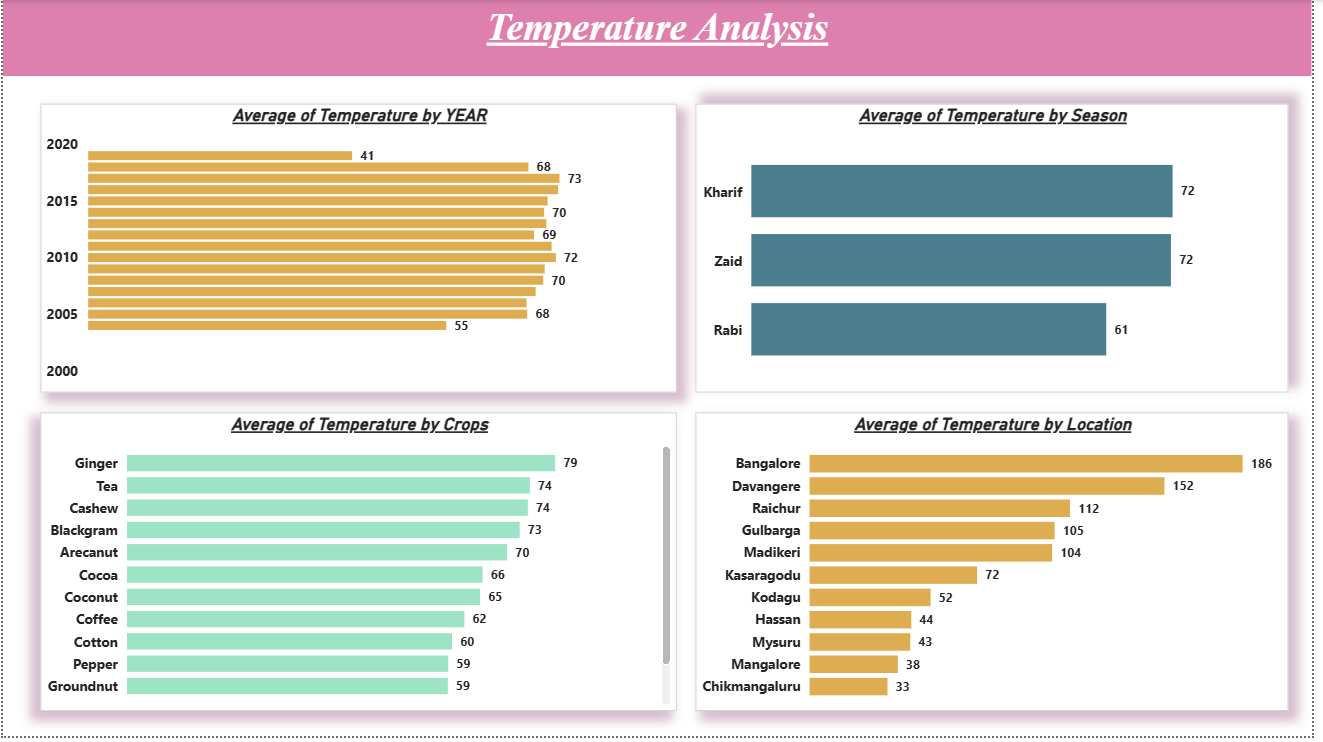

The page's visual inventory and layout, read from the dashboard file:
{"tool":"powerbi","page":{"name":"Temperature  Analysis","canvas":[1280,720],"ordinal":1},"visuals":[{"type":"textbox","box":[9.6,0,1270.7,74.1],"z":0},{"type":"textbox","box":[0,0,1280.3,74.1],"z":1000},{"type":"barChart","title":"Average of Temperature  by YEAR","fields":{"Category":["AGRICULTURE.YEAR"],"Y":["Avg(AGRICULTURE.TEMPPERATURE)"]},"box":[36.9,101,622.4,282.5],"z":2000},{"type":"barChart","title":"Average of Temperature by Season","fields":{"Category":["AGRICULTURE.SEASON"],"Y":["Avg(AGRICULTURE.TEMPPERATURE)"]},"box":[677,101,580.1,282.5],"z":3000},{"type":"barChart","title":"Average of Temperature by Crops","fields":{"Category":["AGRICULTURE.CROPS"],"Y":["Avg(AGRICULTURE.TEMPPERATURE)"]},"box":[36.9,404,622.4,292.1],"z":4000},{"type":"barChart","title":"Average of Temperature by Location","fields":{"Category":["AGRICULTURE.LOCATION"],"Y":["Avg(AGRICULTURE.TEMPPERATURE)"]},"box":[677,404,580.1,292.1],"z":5000}]}

Visuals, with their boxes in screenshot pixels (x1, y1, x2, y2), scaled from the page's 1280x720 canvas onto the 1323x742 screenshot:
textbox: 10/0/1322/76
textbox: 0/0/1322/76
"Average of Temperature  by YEAR" barChart: 38/104/681/395
"Average of Temperature by Season" barChart: 700/104/1299/395
"Average of Temperature by Crops" barChart: 38/416/681/717
"Average of Temperature by Location" barChart: 700/416/1299/717
